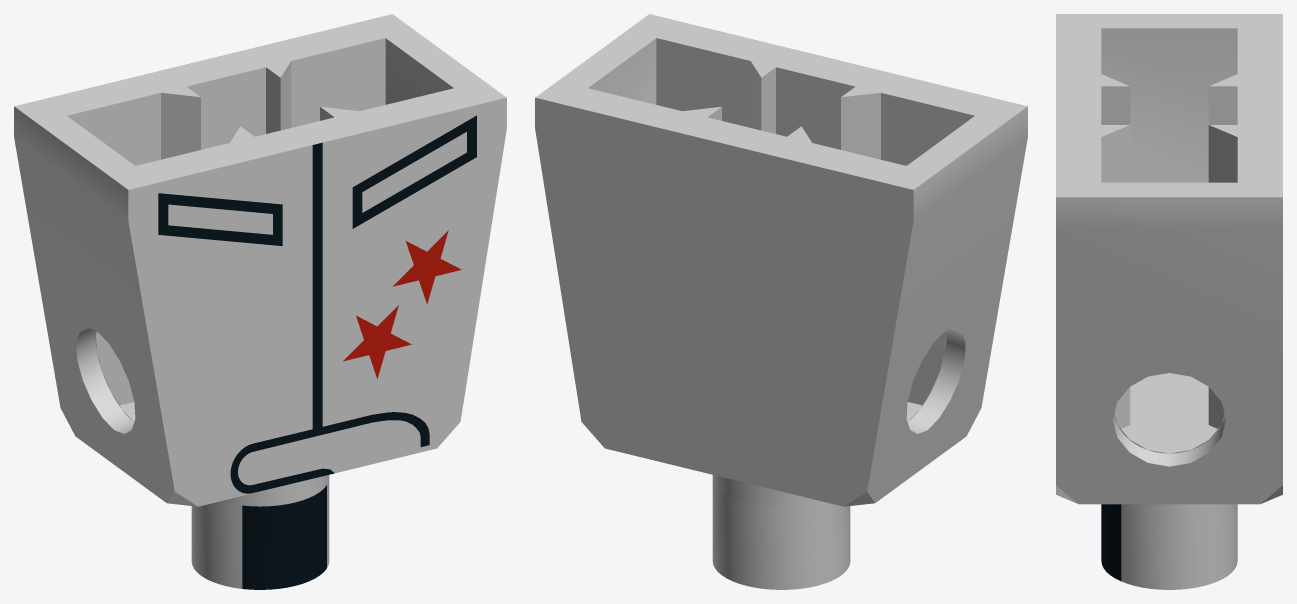
The model's file is StarBody.dae.
3 views of the same model, side by side, from view 1: azimuth 30°, elevation 25°; view 2: azimuth 150°, elevation 25°; view 3: azimuth 270°, elevation 25° (orthographic).
Visible parts, largest first — view 1: 973p1n_dot_dat; view 2: 973p1n_dot_dat; view 3: 973p1n_dot_dat.
Part boxes in pixels (<box>): 973p1n_dot_dat: <box>14,14,506,589</box>; 973p1n_dot_dat: <box>535,14,1027,589</box>; 973p1n_dot_dat: <box>1056,14,1282,589</box>.
Size of the model in its own units: 37.75 by 43.75 by 19.75.
